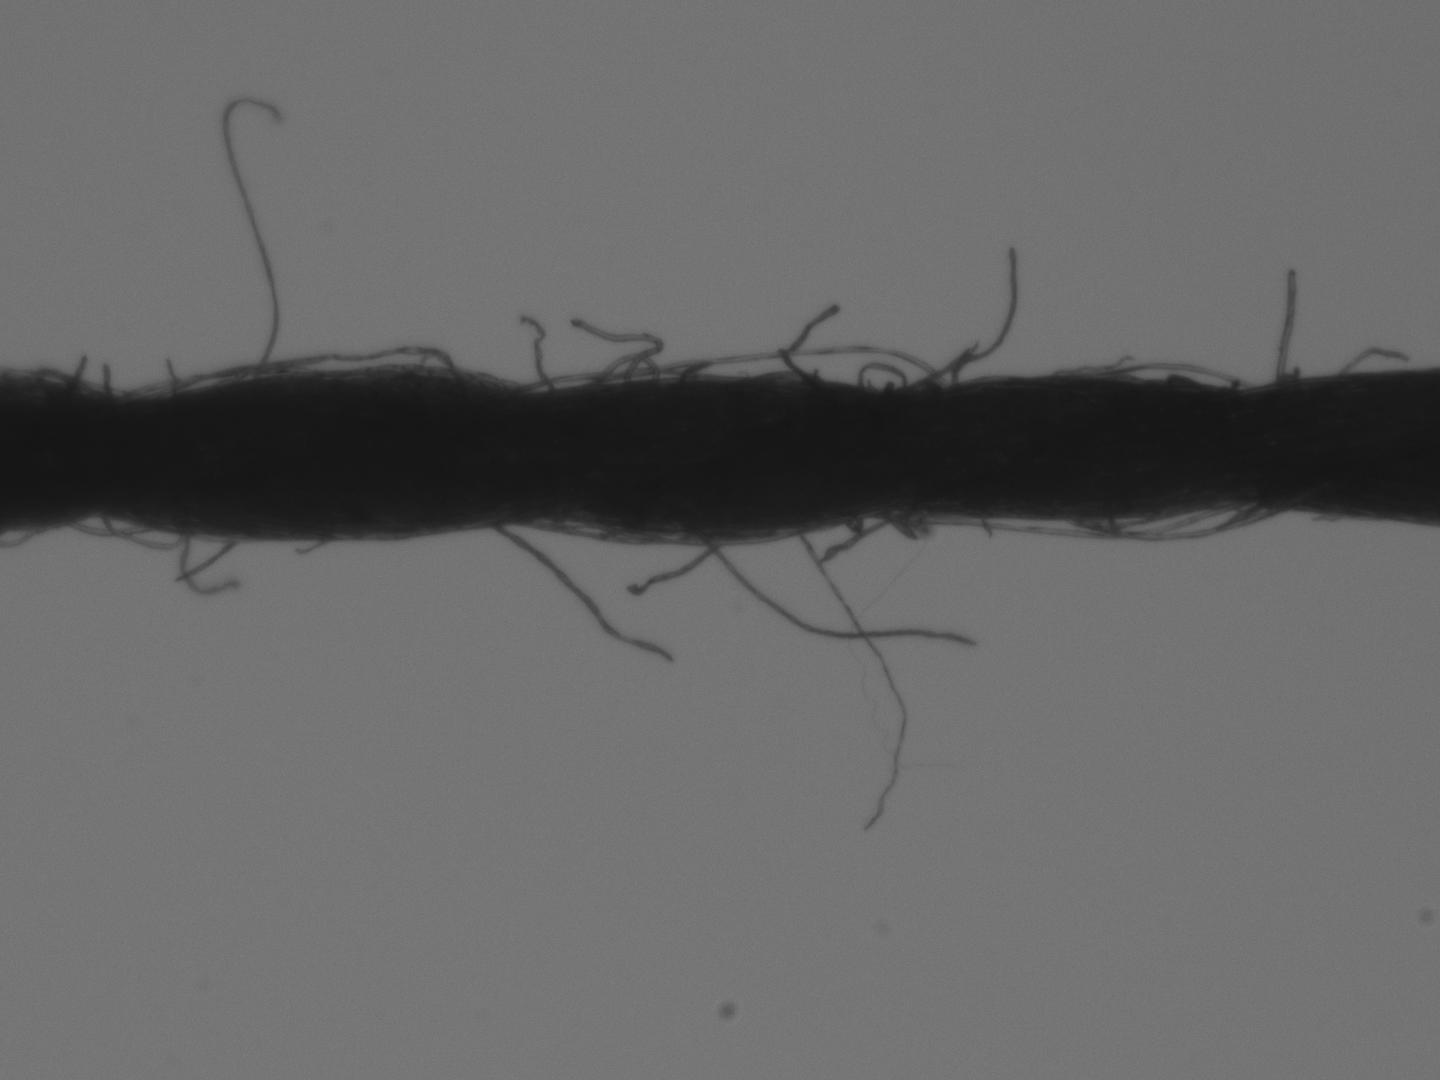loop_fiber: (533, 346, 941, 389), (161, 343, 458, 395), (1073, 501, 1279, 542), (1095, 358, 1238, 390), (100, 515, 184, 554), (587, 354, 659, 383), (854, 360, 910, 393), (68, 516, 145, 537)
protruding_fiber: (695, 535, 977, 652), (484, 522, 681, 668), (219, 96, 287, 379), (949, 245, 1020, 389), (780, 304, 838, 383), (1273, 269, 1296, 381), (517, 313, 545, 388)
